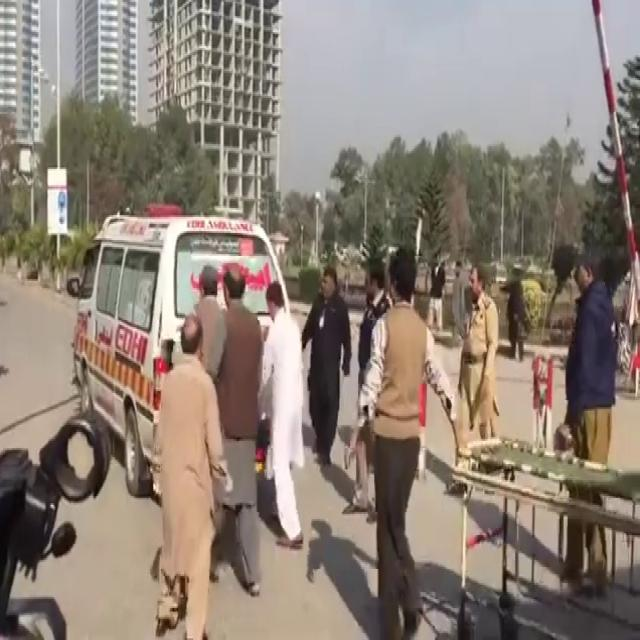ambulance: (81, 194, 309, 485)
